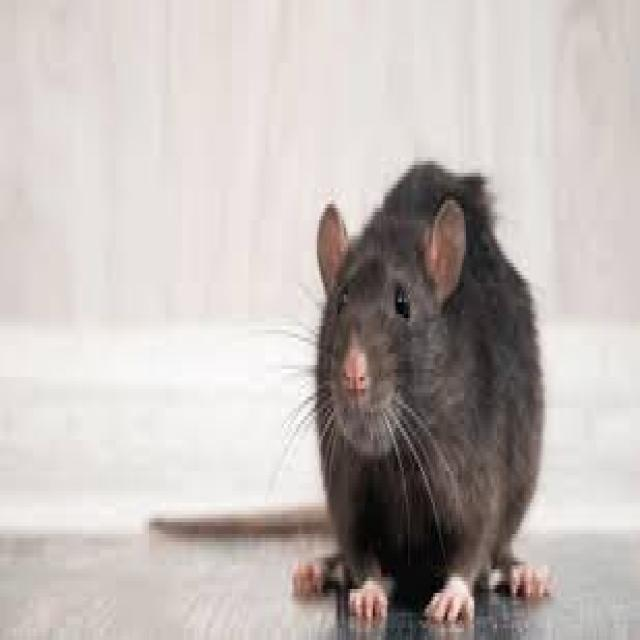rat: (300, 148, 557, 640)
